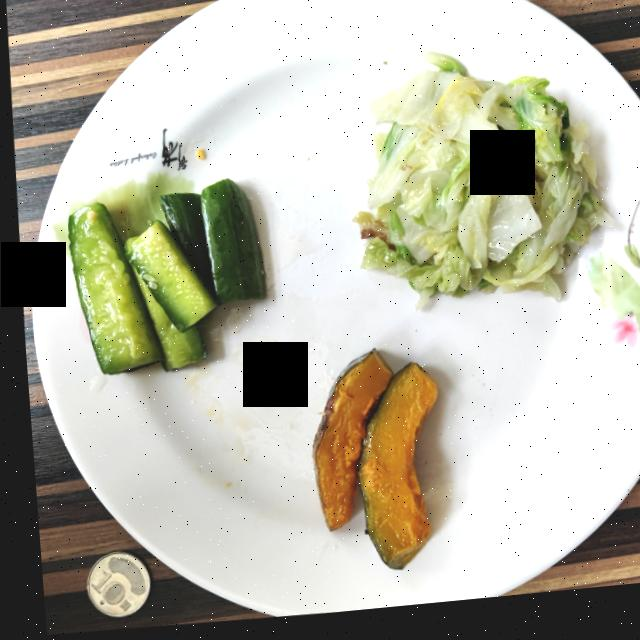cabbage: (350, 59, 606, 311)
coin: (77, 552, 140, 617)
cucumber: (64, 181, 260, 375)
pumpkin: (304, 356, 430, 576)
